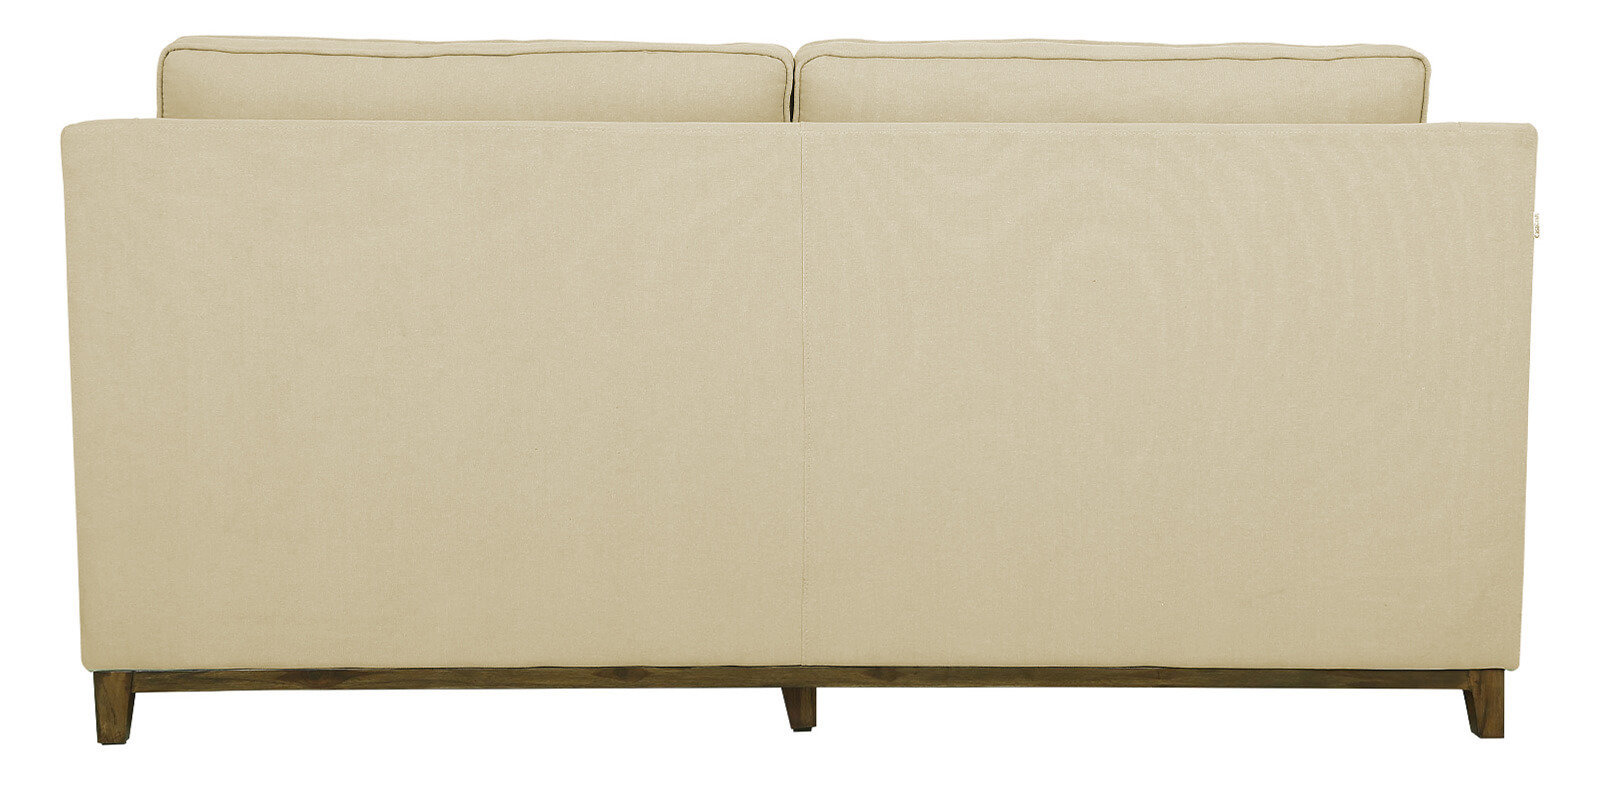Diego Three Seater Sofa in Beige Colour by CasaCraft: (48, 26, 1548, 743)
